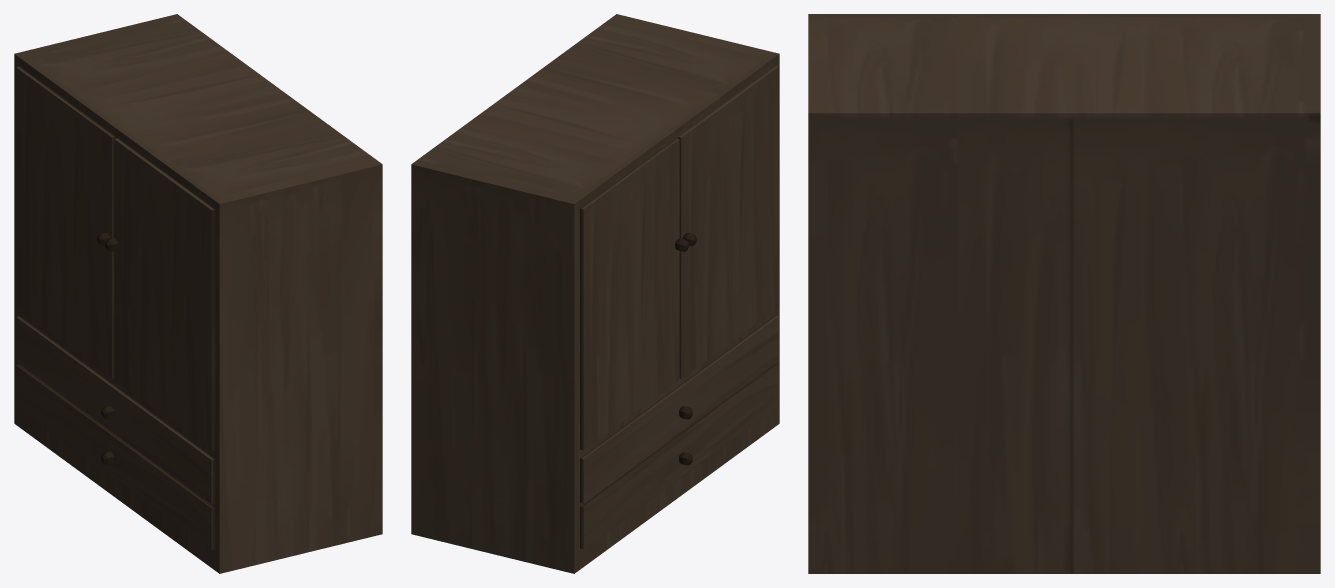
3 renders of one model, left to right at view 1: azimuth 30°, elevation 25°; view 2: azimuth 150°, elevation 25°; view 3: azimuth 270°, elevation 25°, orthographic. The views are drawn at different scales.
Visible parts, largest first — view 1: polySurface23; view 2: polySurface23; view 3: polySurface23.
Boxes of the visible parts, bbox=[...] form: polySurface23: bbox=[14, 14, 382, 573]; polySurface23: bbox=[411, 14, 779, 573]; polySurface23: bbox=[808, 14, 1320, 573].
Bounding box in the file's own units: 6.02 × 11.94 × 12.02.
